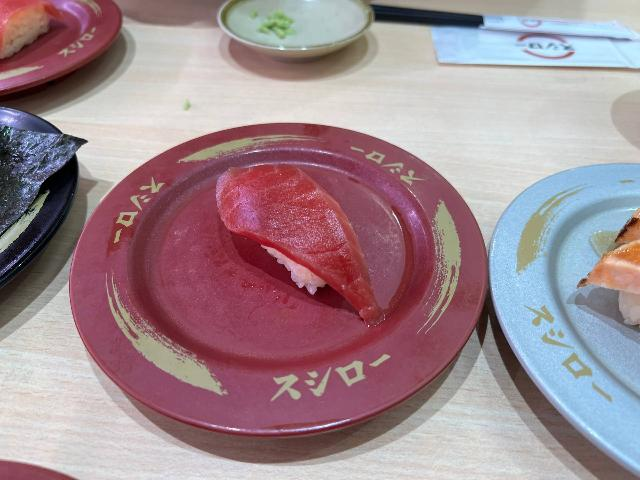janback: (0, 81, 80, 269)
janred: (111, 171, 456, 459), (3, 0, 125, 85), (0, 448, 89, 480)
janwhite: (498, 171, 640, 477)
